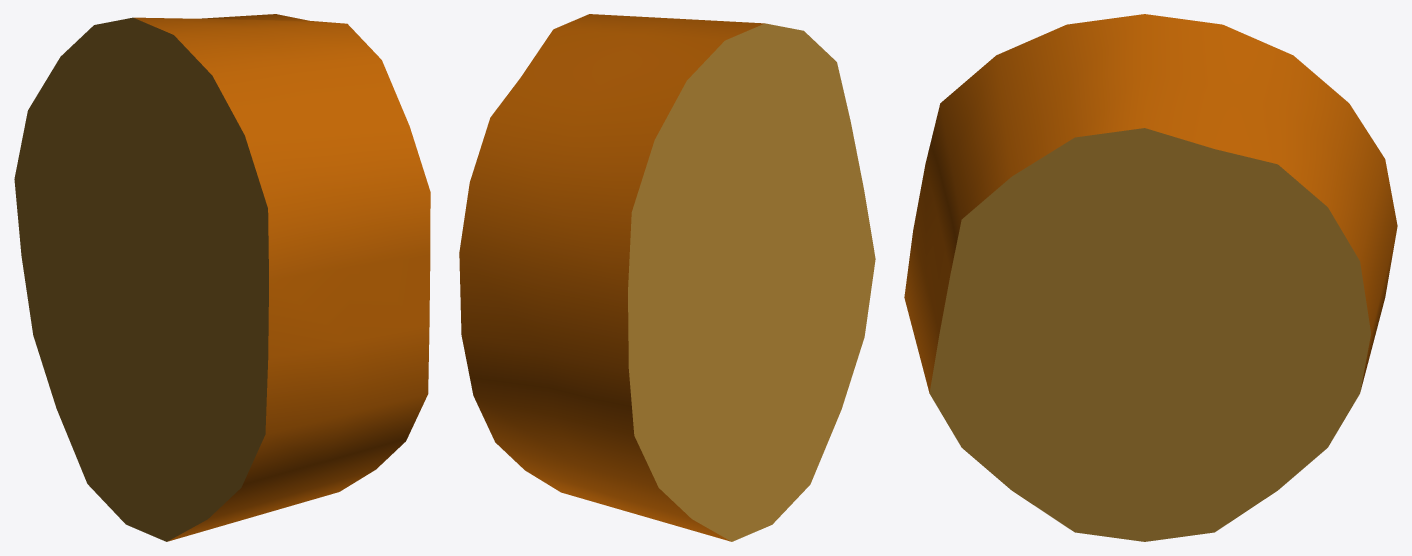
The model's file is mesh_CarrotSlice_Stage10.fbx.
3 renders of one model, left to right at view 1: azimuth 30°, elevation 25°; view 2: azimuth 150°, elevation 25°; view 3: azimuth 270°, elevation 25°, orthographic.
Visible parts, largest first — view 1: mesh_CarrotSlice_Stage10; view 2: mesh_CarrotSlice_Stage10; view 3: mesh_CarrotSlice_Stage10.
Boxes of the visible parts, box(x1,y1,x2,y2) form: mesh_CarrotSlice_Stage10: box(14, 14, 430, 541); mesh_CarrotSlice_Stage10: box(459, 14, 875, 541); mesh_CarrotSlice_Stage10: box(904, 14, 1397, 541).
Bounding box in the file's own units: 0.0235 × 0.0484 × 0.046.
